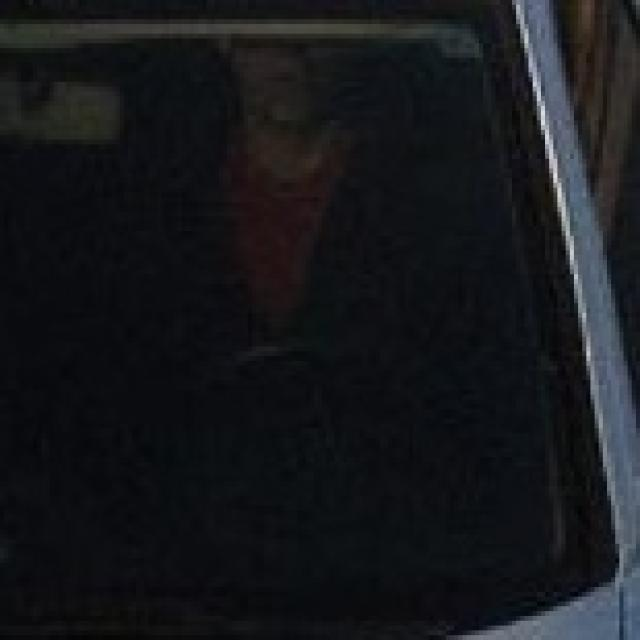No-seat-belt: (31, 9, 602, 580)
